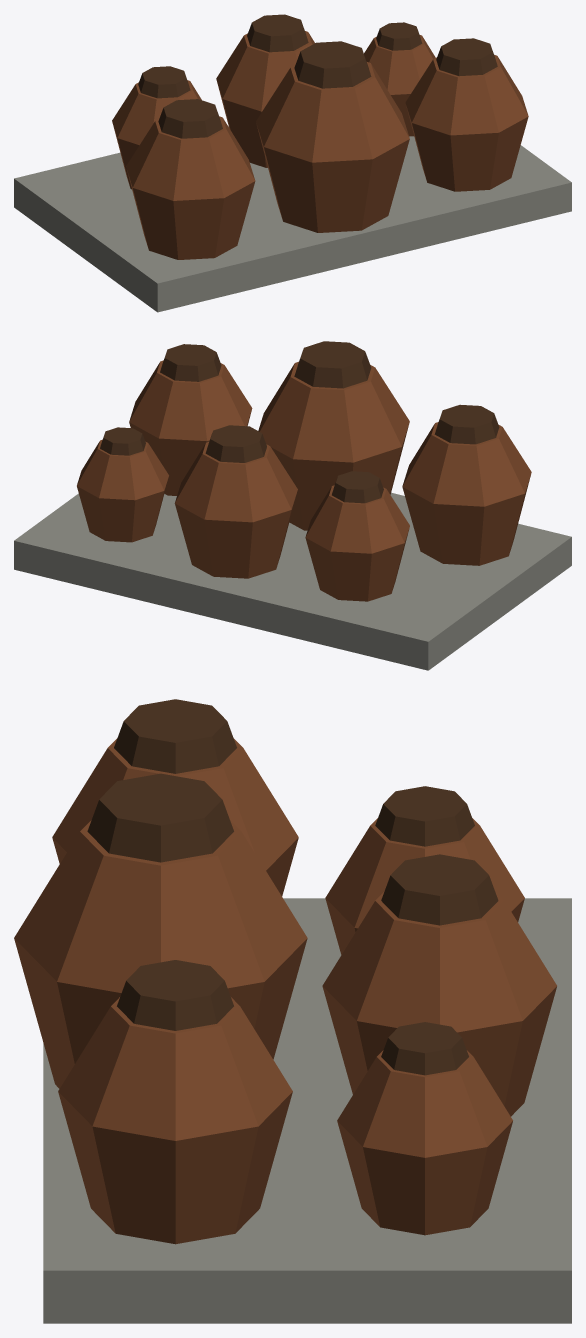
Rendered from prop_jangdok.glb.
3 renders of one model, top to bottom at view 1: azimuth 30°, elevation 25°; view 2: azimuth 150°, elevation 25°; view 3: azimuth 270°, elevation 25°, orthographic. The views are drawn at different scales.
Visible parts, largest first — view 1: prop_jangdok; view 2: prop_jangdok; view 3: prop_jangdok.
Boxes of the visible parts, left/top/right/bottom form: prop_jangdok: left=14, top=14, right=571, bottom=312; prop_jangdok: left=14, top=341, right=571, bottom=670; prop_jangdok: left=14, top=699, right=571, bottom=1323.
Size of the model in its own units: 3 by 1.27 by 1.9.
